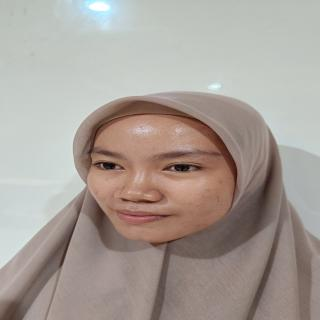Netral: (80, 110, 245, 246)
